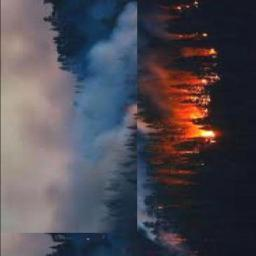Heavy smoke: (22, 5, 138, 232)
Medium fire: (152, 10, 219, 197)
